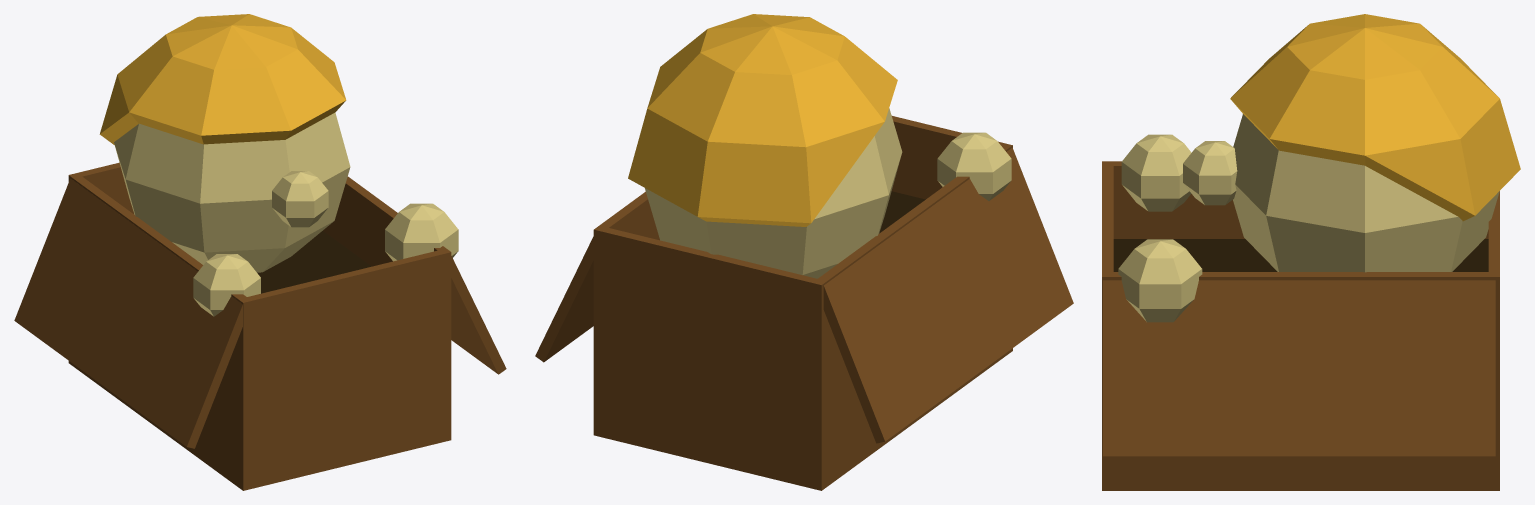
Rendered from boxcar.fbx.
3 renders of one model, left to right at view 1: azimuth 30°, elevation 25°; view 2: azimuth 150°, elevation 25°; view 3: azimuth 270°, elevation 25°, orthographic. The views are drawn at different scales.
Visible parts, largest first — view 1: Box, RightWing, Hair, Head, LeftHand, RightHand, LeftWing, Nose; view 2: Box, Hair, RightWing, Head, RightHand, LeftWing; view 3: LeftWing, Hair, Box, Head, LeftHand, RightHand, Nose.
Part boxes in pixels (x1,y1,x2,y2): Box: (68,162,451,490); RightWing: (14,178,242,448); Hair: (99,14,346,144); Head: (114,112,350,272); LeftHand: (385,203,458,261); RightHand: (193,254,260,316); LeftWing: (451,256,506,374); Nose: (272,171,328,227); Box: (593,116,1012,490); Hair: (628,14,897,226); RightWing: (823,147,1073,443); Head: (645,108,902,278); RightHand: (937,132,1011,200); LeftWing: (535,236,593,362); LeftWing: (1103,280,1495,456); Hair: (1230,14,1520,221); Box: (1102,161,1499,490); Head: (1233,114,1499,272); LeftHand: (1118,239,1202,322); RightHand: (1121,134,1191,211); Nose: (1183,141,1237,205).
Size of what is drawn, in the model's own units: 307 by 327 by 306.
